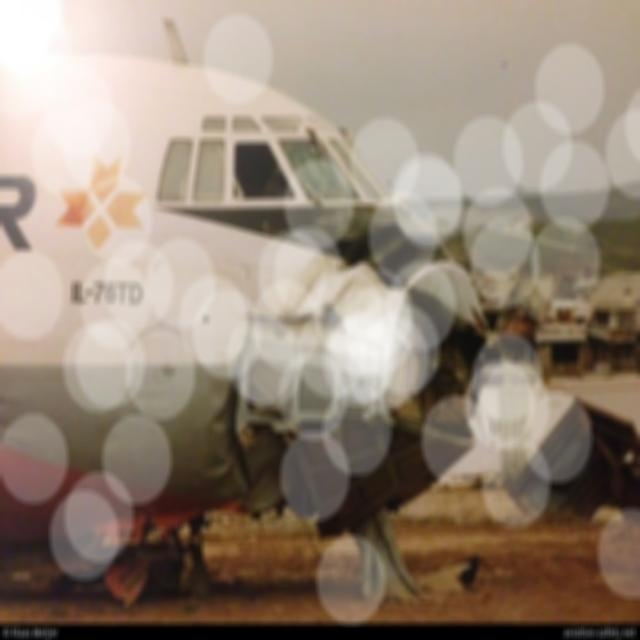dent: (199, 457, 235, 478), (206, 410, 232, 434)
